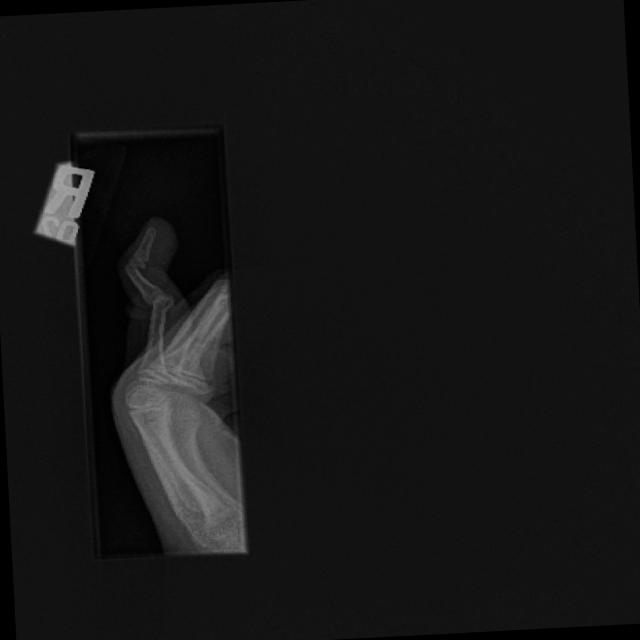fingers positive: (118, 248, 156, 285)
